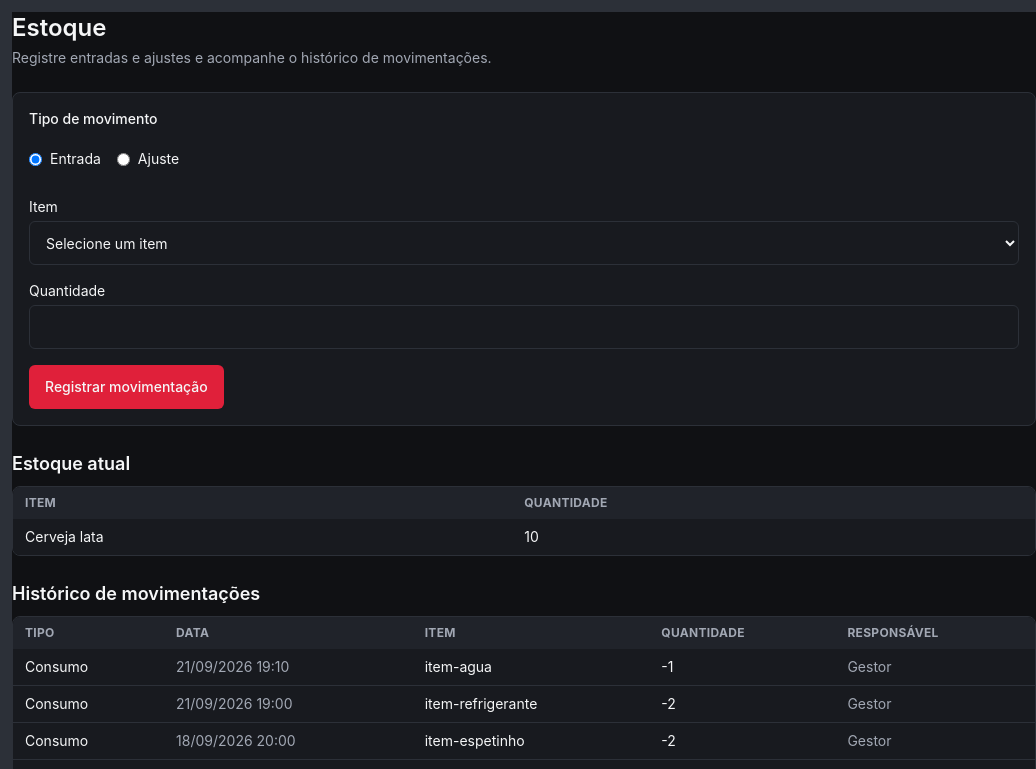
InventoryView › shows the repository error message without breaking the screen
Expected: the text "10" is shown, x1=524 y1=528 x2=539 y2=545
Select "Cerveja lata" in the dropdown labelled "Item". click: (524, 243)
box: x1=29 y1=221 x2=1019 y2=265
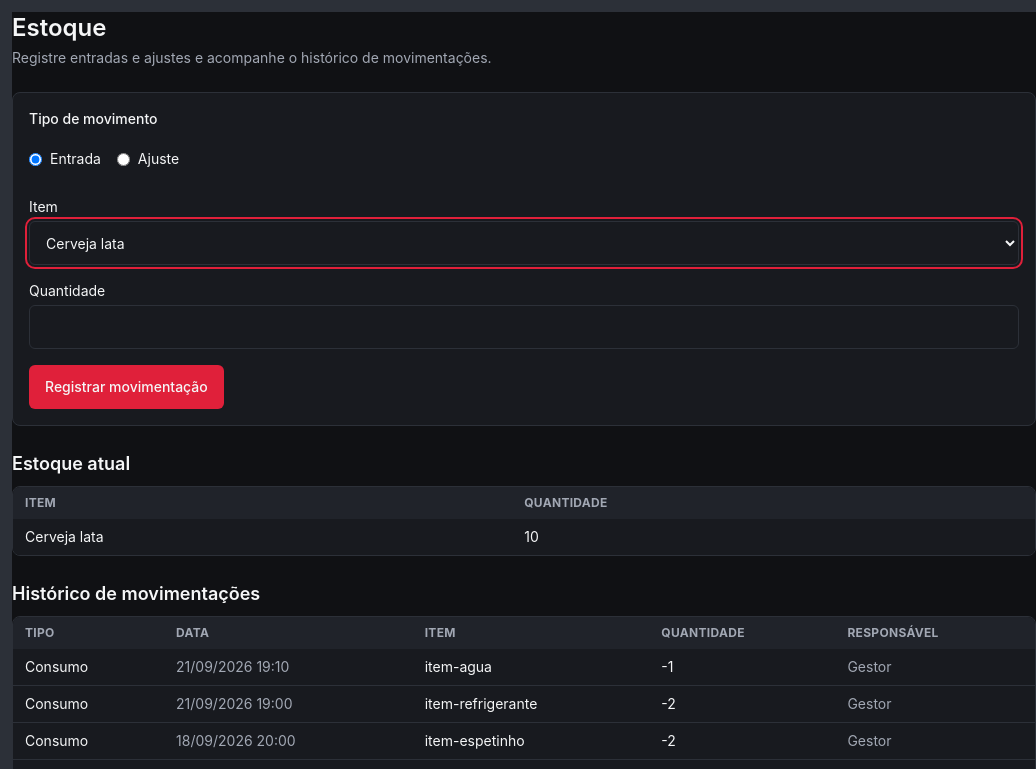
Type "5" into the field labelled "Quantidade". click: (524, 327)
box: x1=29 y1=305 x2=1019 y2=349
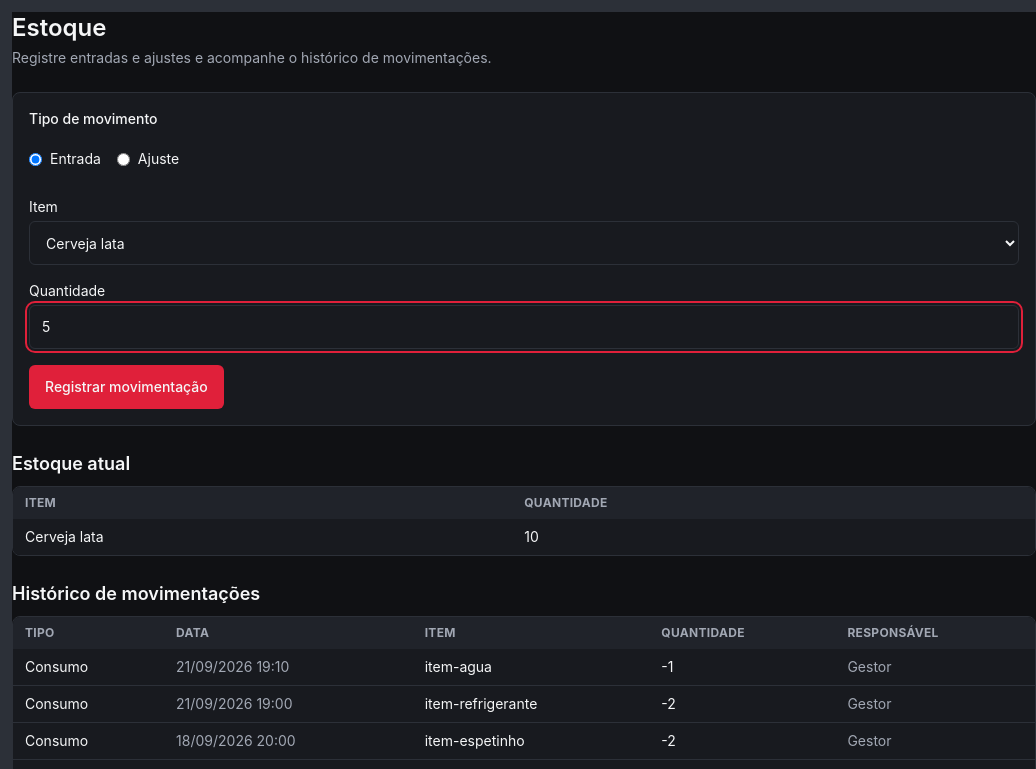
Click the button "Registrar movimentação". click: (126, 387)
box: x1=29 y1=365 x2=224 y2=409
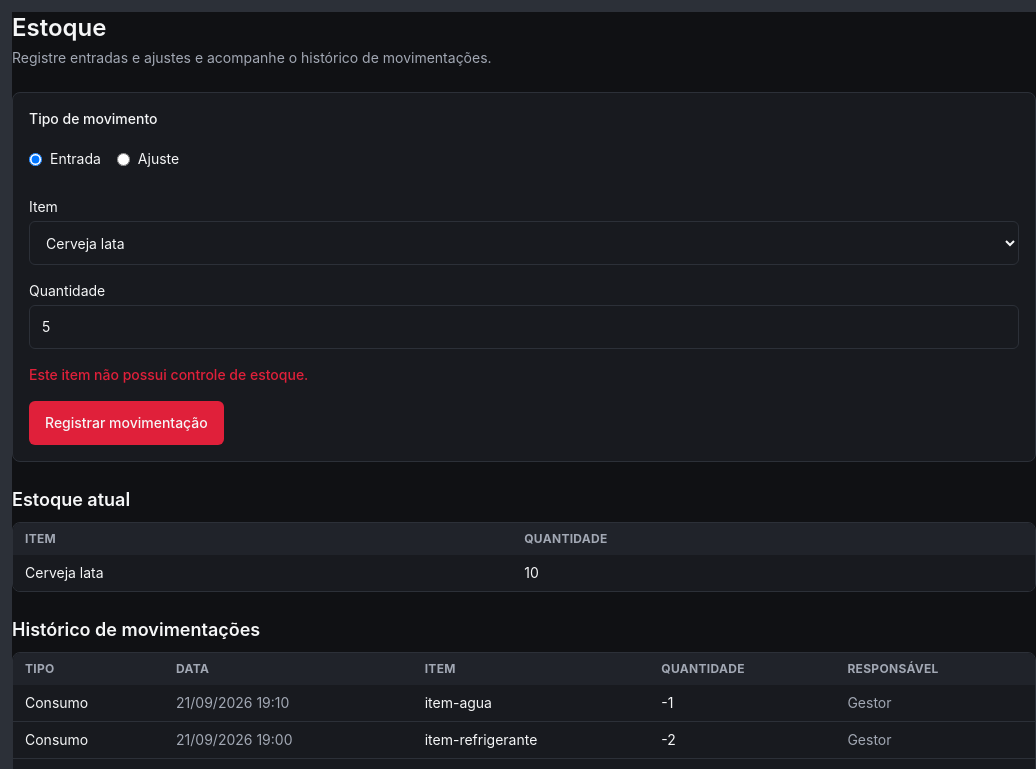
Expected: the button "Registrar movimentação" is shown, x1=29 y1=401 x2=224 y2=445
Result: the text "Este item não possui controle de estoque." is shown at x1=29 y1=366 x2=308 y2=383
